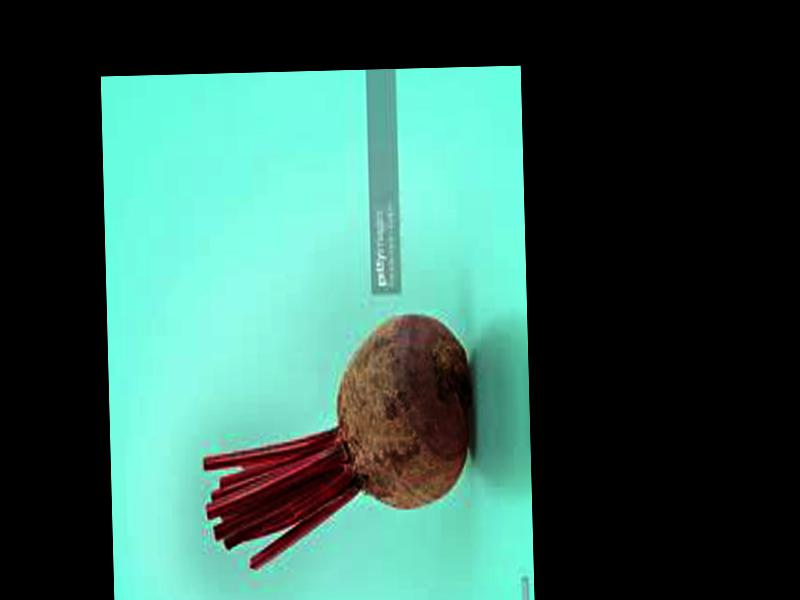Beet: (198, 313, 476, 568)
